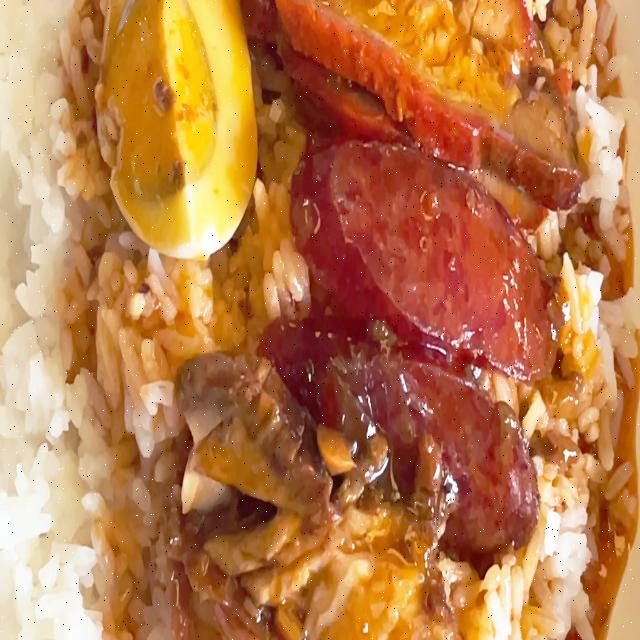boiled_egg: (116, 0, 252, 236)
chainese_sausage: (307, 161, 532, 475)
crispy_pork: (190, 374, 299, 615), (268, 515, 471, 640)
red_pork: (280, 0, 562, 171)
red_pork_and_crispy_pork: (0, 0, 640, 640)
rice: (6, 254, 175, 640), (0, 0, 90, 279)
